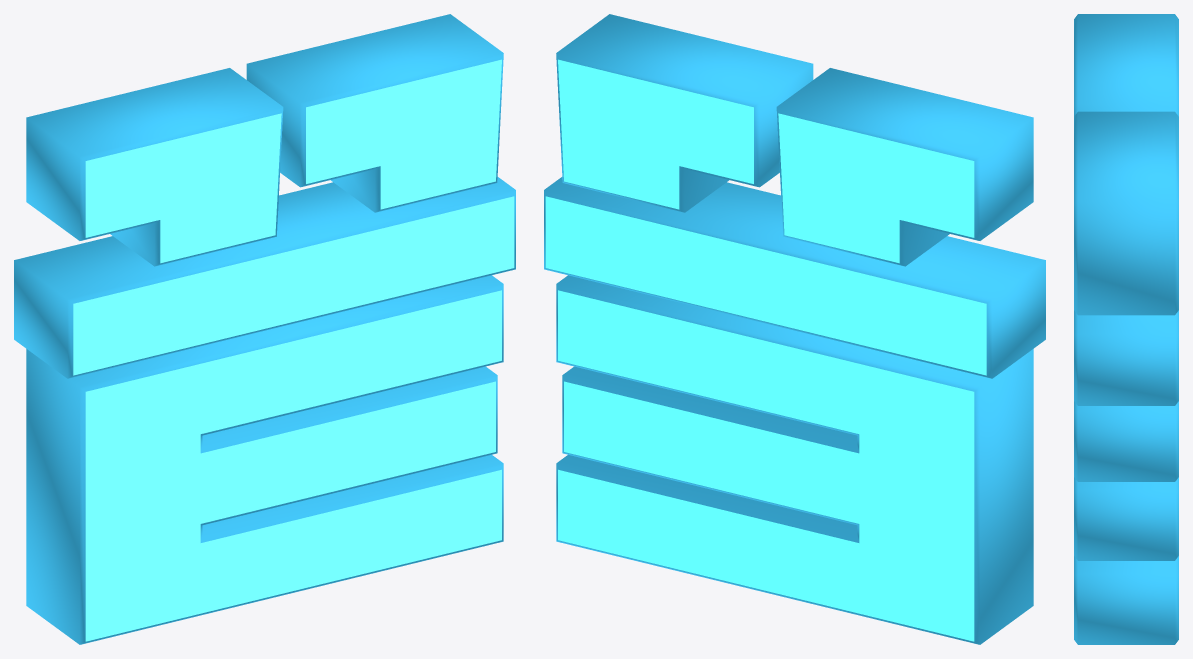
3 renders of one model, left to right at view 1: azimuth 30°, elevation 25°; view 2: azimuth 150°, elevation 25°; view 3: azimuth 270°, elevation 25°, orthographic. The views are drawn at different scales.
Visible parts, largest first — view 1: glyph; view 2: glyph; view 3: glyph.
Part boxes in pixels (<box>): glyph: <box>14,14,515,644</box>; glyph: <box>544,14,1045,644</box>; glyph: <box>1074,14,1178,644</box>.
Size of the model in its own units: 0.0726 by 0.0756 by 0.0162.
